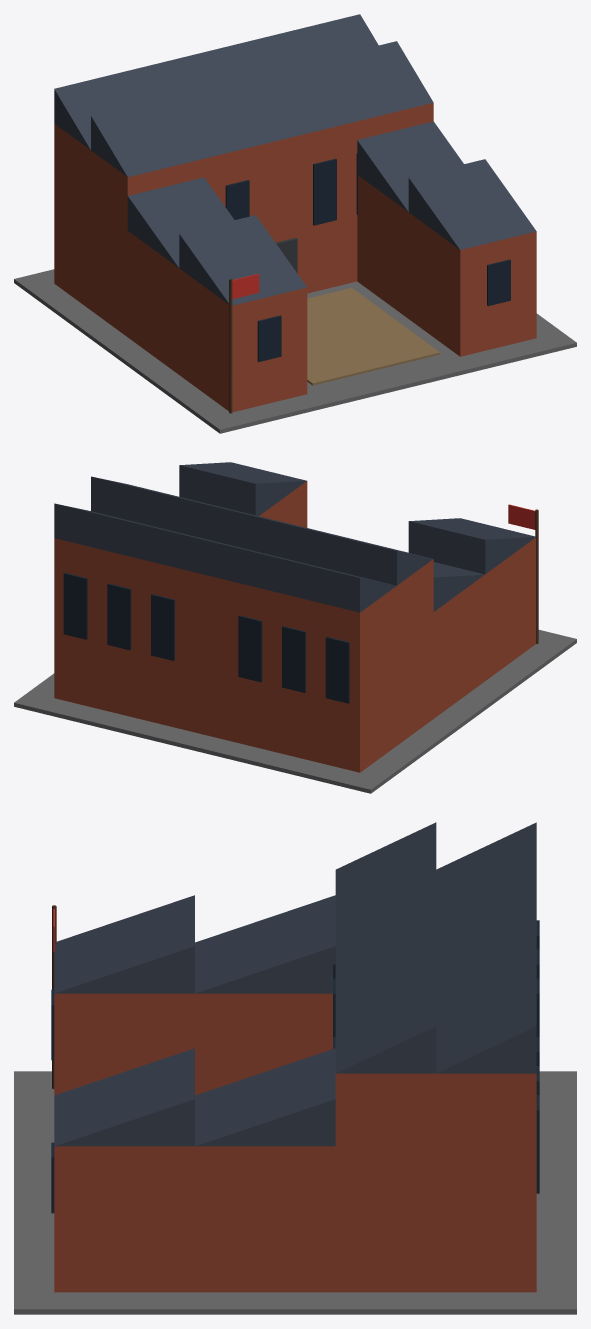
File: bld_special_barracks_a05.glb
3 views of the same model, one above another, from view 1: azimuth 30°, elevation 25°; view 2: azimuth 150°, elevation 25°; view 3: azimuth 270°, elevation 25° (orthographic). The views are drawn at different scales.
Parts seen in each view (by area): view 1: body; view 2: body; view 3: body.
Part boxes in pixels (x1,y1,x2,y2): body: (14, 14, 576, 433); body: (14, 462, 576, 793); body: (14, 822, 576, 1314).
Size of what is drawn, in the model's own units: 14 by 7.45 by 14.
